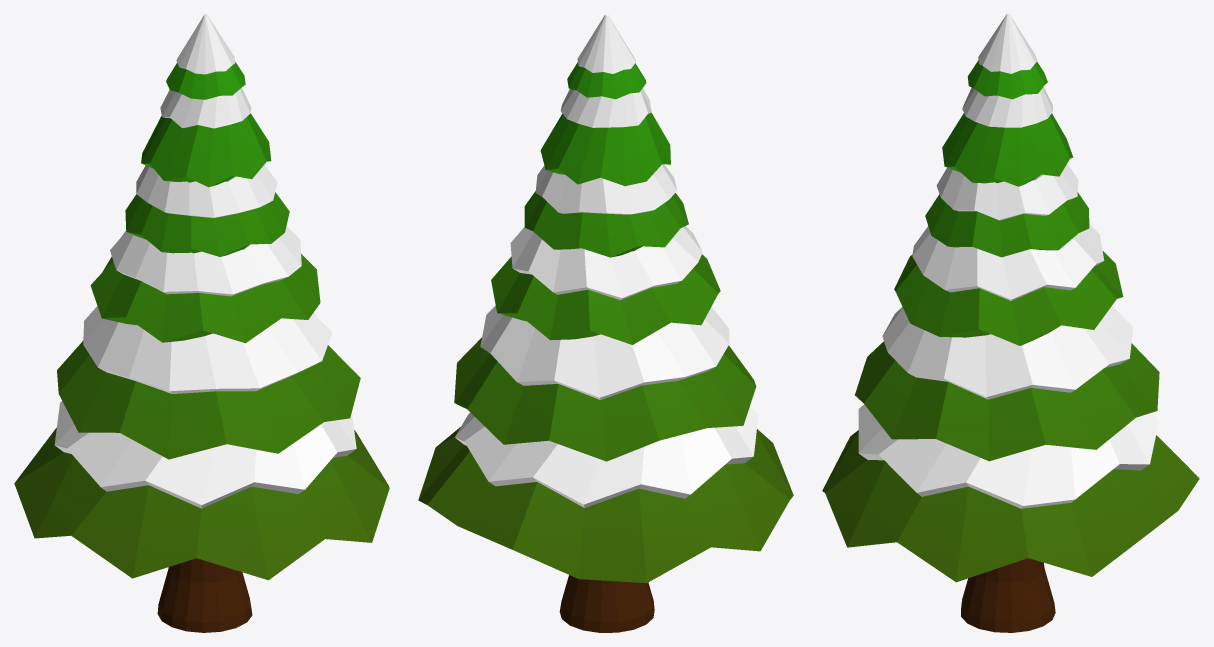
The model's file is one_tree.glb.
3 views of the same model, side by side, from view 1: azimuth 30°, elevation 25°; view 2: azimuth 150°, elevation 25°; view 3: azimuth 270°, elevation 25° (orthographic).
Parts seen in each view (by area): view 1: Cylinder.005; view 2: Cylinder.005; view 3: Cylinder.005.
Part boxes in pixels (x1,y1,x2,y2): Cylinder.005: (14,14,389,632); Cylinder.005: (418,14,793,632); Cylinder.005: (822,14,1199,632).
Bounding box in the file's own units: 3.89 × 6.88 × 3.93.
3 materials, 1 textured.
